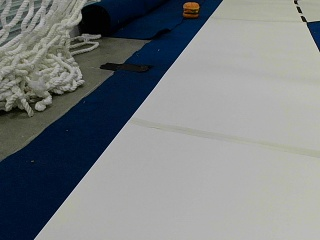burger: (182, 0, 200, 19)
